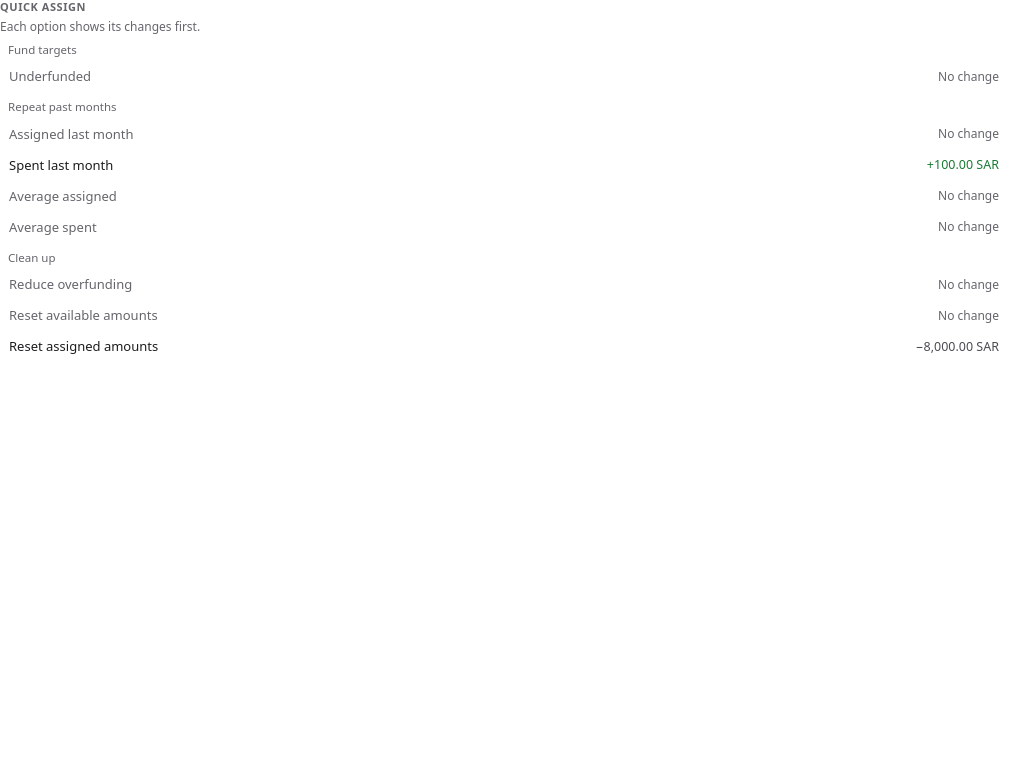
Test: previews an option with the budget's numbers and applies it only when confirmed
expect the button "Underfunded No change" is disabled: met, box [0, 61, 1023, 91]
expect the button "Underfunded No change" is shown: met, box [0, 61, 1023, 91]
Click the button "Spent last month +100.00 SAR".
click(61, 165)  # box [0, 150, 1023, 180]
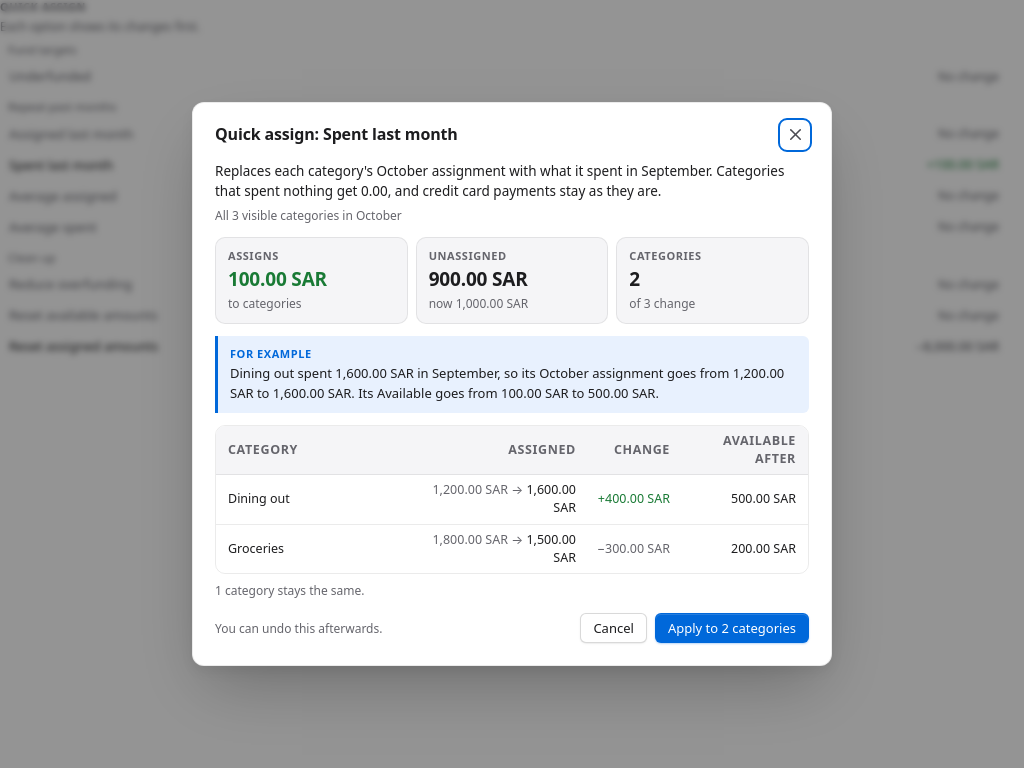
expect the button "Apply to 2 categories" is shown: met, box [655, 613, 809, 643]
expect the dialog "Quick assign: Spent last month" shows "900.00 SAR": met, box [429, 266, 528, 292]
expect the text "Dining out spent 1,600.00 SAR in" is shown: met, box [230, 364, 784, 402]
Click the button "Cancel".
click(614, 628)  # box [580, 613, 647, 643]
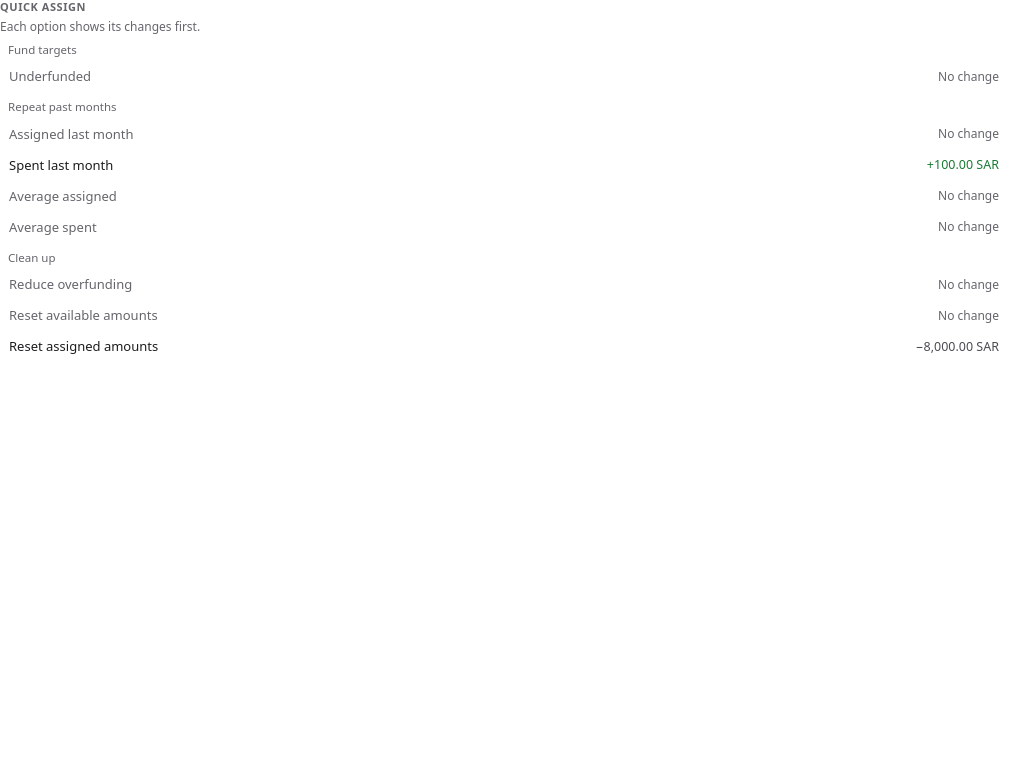
expect the dialog is gone: met
Click the button "Spent last month +100.00 SAR".
click(61, 165)  # box [0, 150, 1023, 180]
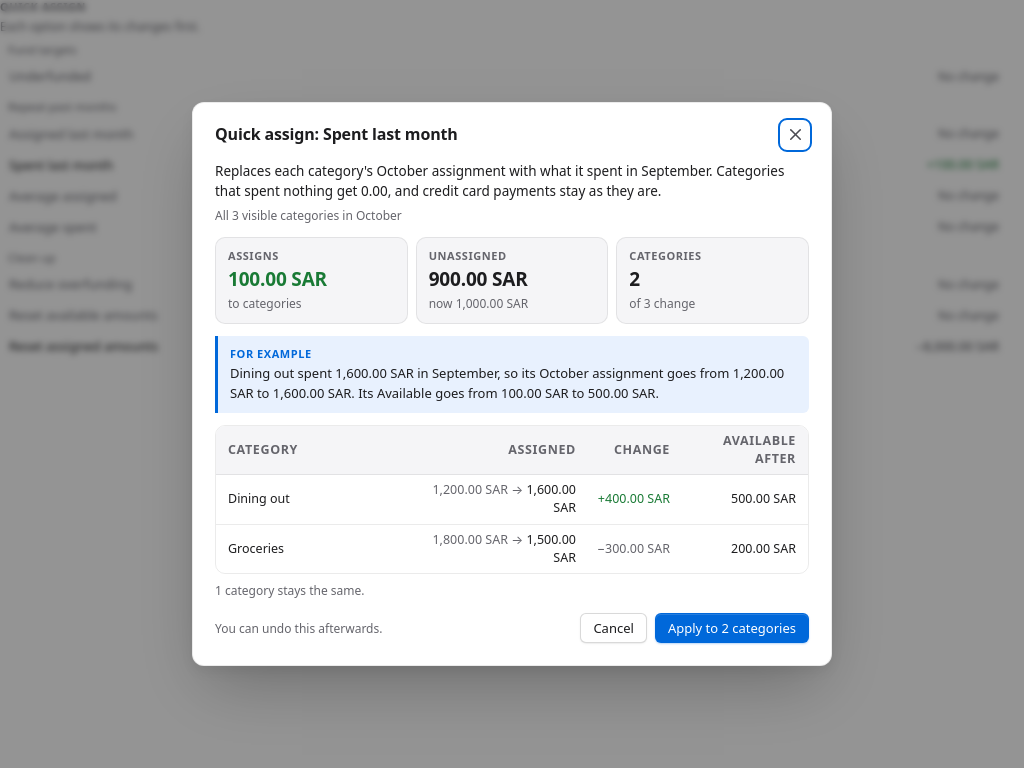
Click the button "Apply to 2 categories".
click(732, 628)  # box [655, 613, 809, 643]
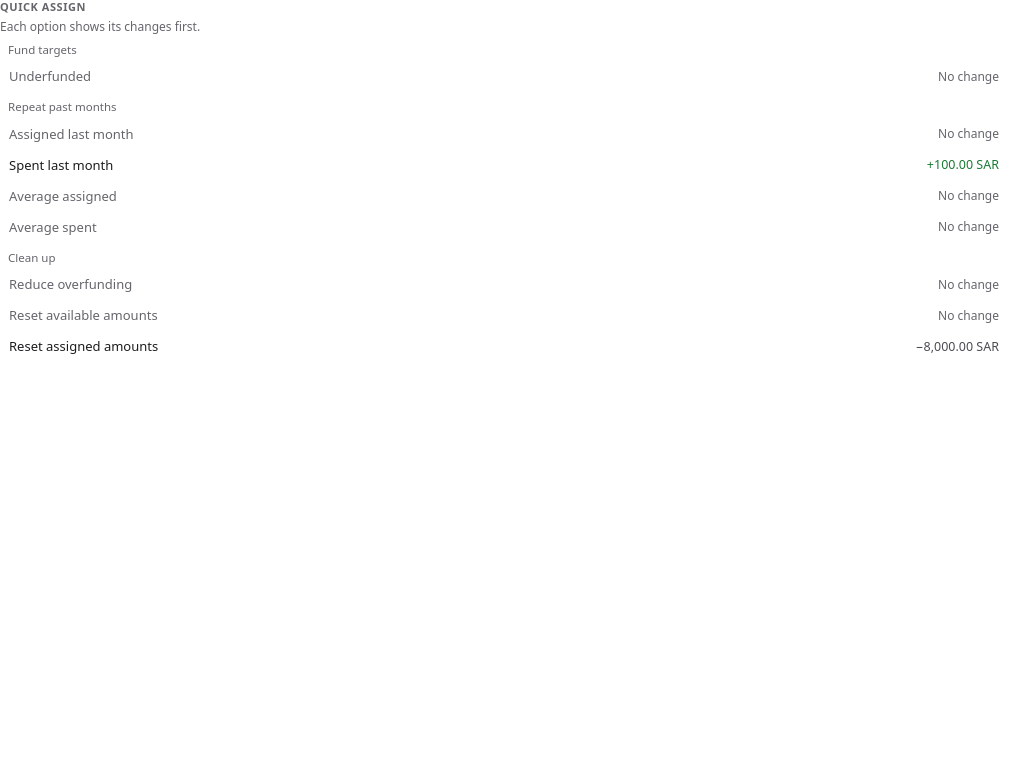
expect the dialog is gone: met
